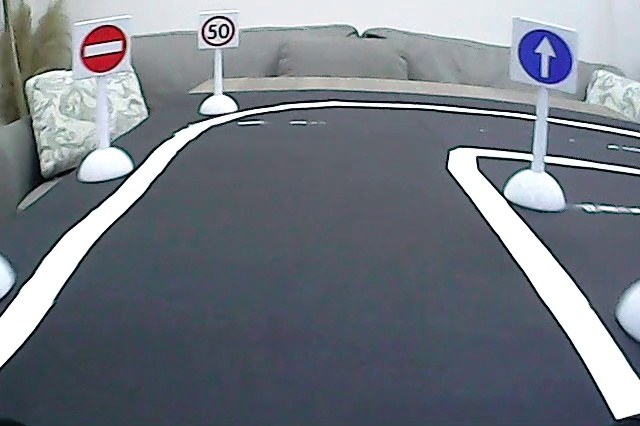do not enter: (78, 22, 129, 74)
speed limit 50: (199, 14, 237, 48)
